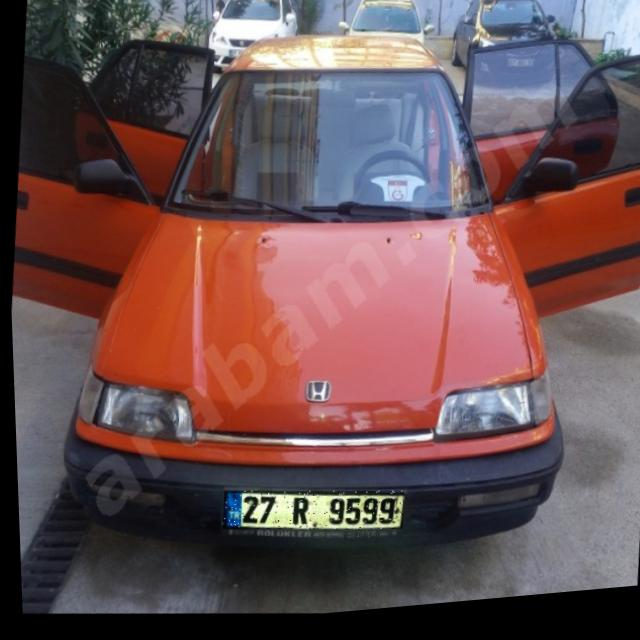license_plate: (216, 482, 401, 548)
